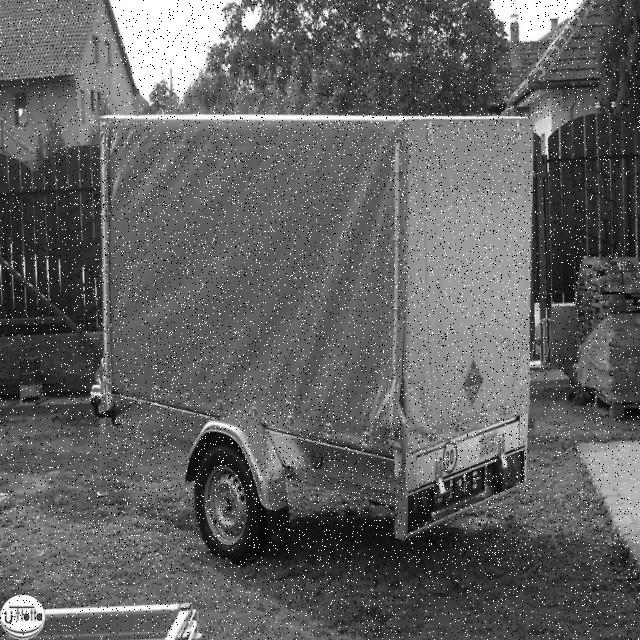Box Truck: (90, 115, 535, 566)
